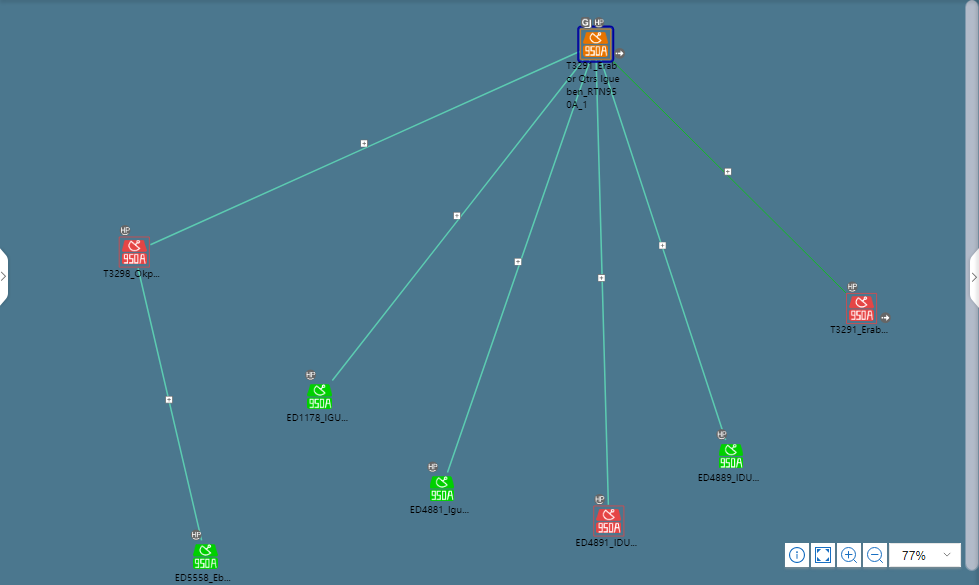Link_Blue: (327, 63, 578, 386), (150, 51, 574, 242), (444, 63, 586, 471), (603, 75, 730, 439), (138, 282, 200, 545), (590, 63, 613, 508)
Link_Green: (616, 63, 843, 291)
RTN_Green: (719, 442, 748, 471), (193, 546, 222, 569), (431, 479, 453, 501), (309, 387, 330, 410)
RTN_Orange: (578, 32, 613, 62)
RTN_Red: (597, 510, 626, 539), (119, 240, 147, 270), (847, 296, 873, 325)
